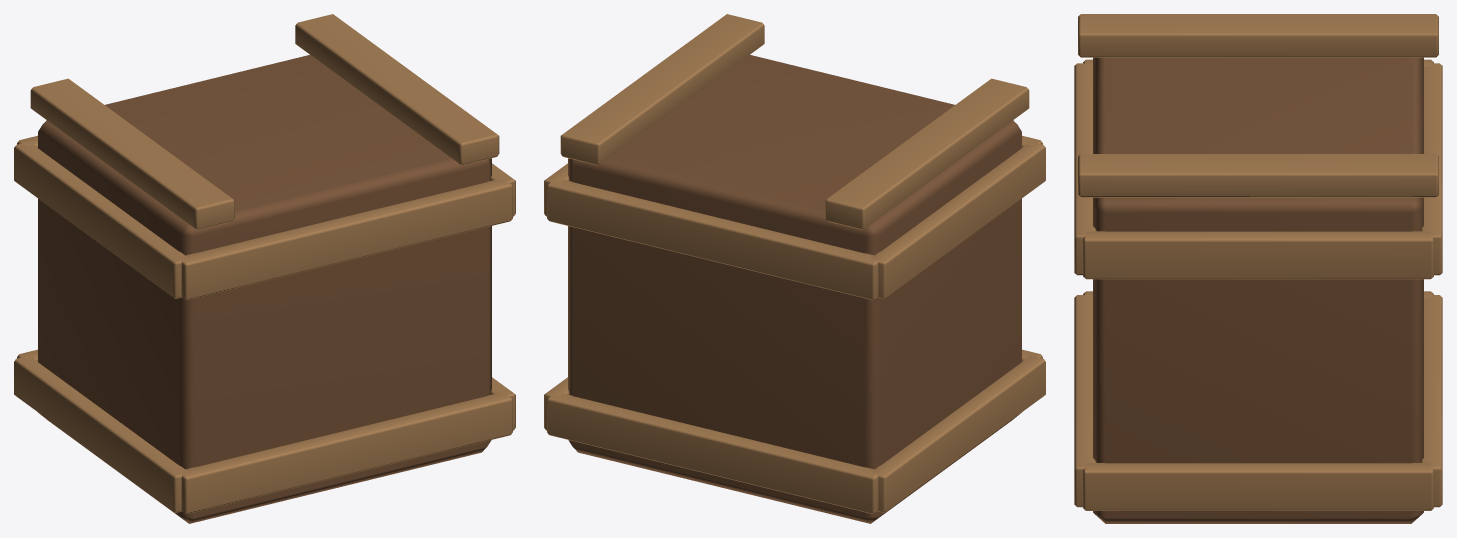
File: crate.glb
3 views of the same model, side by side, from view 1: azimuth 30°, elevation 25°; view 2: azimuth 150°, elevation 25°; view 3: azimuth 270°, elevation 25° (orthographic). The views are drawn at different scales.
Visible parts, largest first — view 1: crate body, horizontal side slat, horizontal side slat.002, lid slat.001, lid slat, horizontal end slat, horizontal end slat.002; view 2: crate body, horizontal side slat.001, horizontal side slat.003, lid slat.001, lid slat, horizontal end slat, horizontal end slat.002; view 3: crate body, horizontal end slat.003, horizontal end slat.001, lid slat, lid slat.001, horizontal side slat, horizontal side slat.001, horizontal side slat.003, horizontal side slat.002.
Boxes of the visible parts, left/top/right/bottom form: crate body: left=38, top=55, right=491, bottom=523; horizontal side slat: left=181, top=393, right=512, bottom=513; horizontal side slat.002: left=181, top=179, right=512, bottom=300; lid slat.001: left=295, top=14, right=499, bottom=165; lid slat: left=30, top=78, right=234, bottom=229; horizontal end slat: left=14, top=355, right=188, bottom=512; horizontal end slat.002: left=14, top=141, right=188, bottom=298; crate body: left=568, top=55, right=1021, bottom=523; horizontal side slat.001: left=547, top=393, right=878, bottom=513; horizontal side slat.003: left=547, top=179, right=878, bottom=300; lid slat.001: left=560, top=14, right=764, bottom=165; lid slat: left=825, top=78, right=1029, bottom=229; horizontal end slat: left=871, top=355, right=1045, bottom=512; horizontal end slat.002: left=871, top=141, right=1045, bottom=298; crate body: left=1093, top=57, right=1423, bottom=523; horizontal end slat.003: left=1083, top=231, right=1433, bottom=279; horizontal end slat.001: left=1083, top=463, right=1433, bottom=510; lid slat: left=1078, top=14, right=1438, bottom=57; lid slat.001: left=1078, top=154, right=1438, bottom=197; horizontal side slat: left=1074, top=295, right=1096, bottom=507; horizontal side slat.001: left=1420, top=295, right=1442, bottom=507; horizontal side slat.003: left=1420, top=63, right=1442, bottom=275; horizontal side slat.002: left=1074, top=63, right=1096, bottom=275.
Size of the model in its own units: 0.855 by 0.7775 by 0.735.
